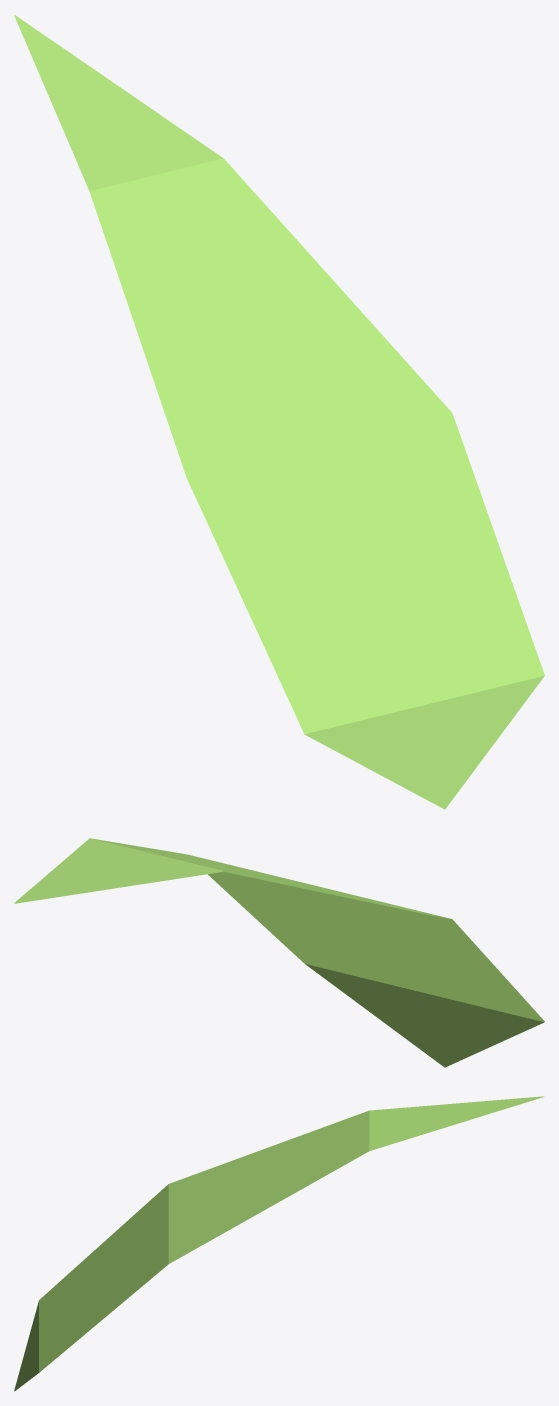
The model's file is Plant_a_TwoS_01.fbx.
3 views of the same model, one above another, from view 1: azimuth 30°, elevation 25°; view 2: azimuth 150°, elevation 25°; view 3: azimuth 270°, elevation 25° (orthographic). The views are drawn at different scales.
Parts seen in each view (by area): view 1: Plant_a_TwoS_01; view 2: Plant_a_TwoS_01; view 3: Plant_a_TwoS_01.
Boxes of the visible parts, x1,y1,x2,y2 form: Plant_a_TwoS_01: (14, 14, 544, 809); Plant_a_TwoS_01: (14, 838, 544, 1067); Plant_a_TwoS_01: (14, 1096, 544, 1391).
Bounding box in the file's own units: 0.3615 × 0.6245 × 1.02.
